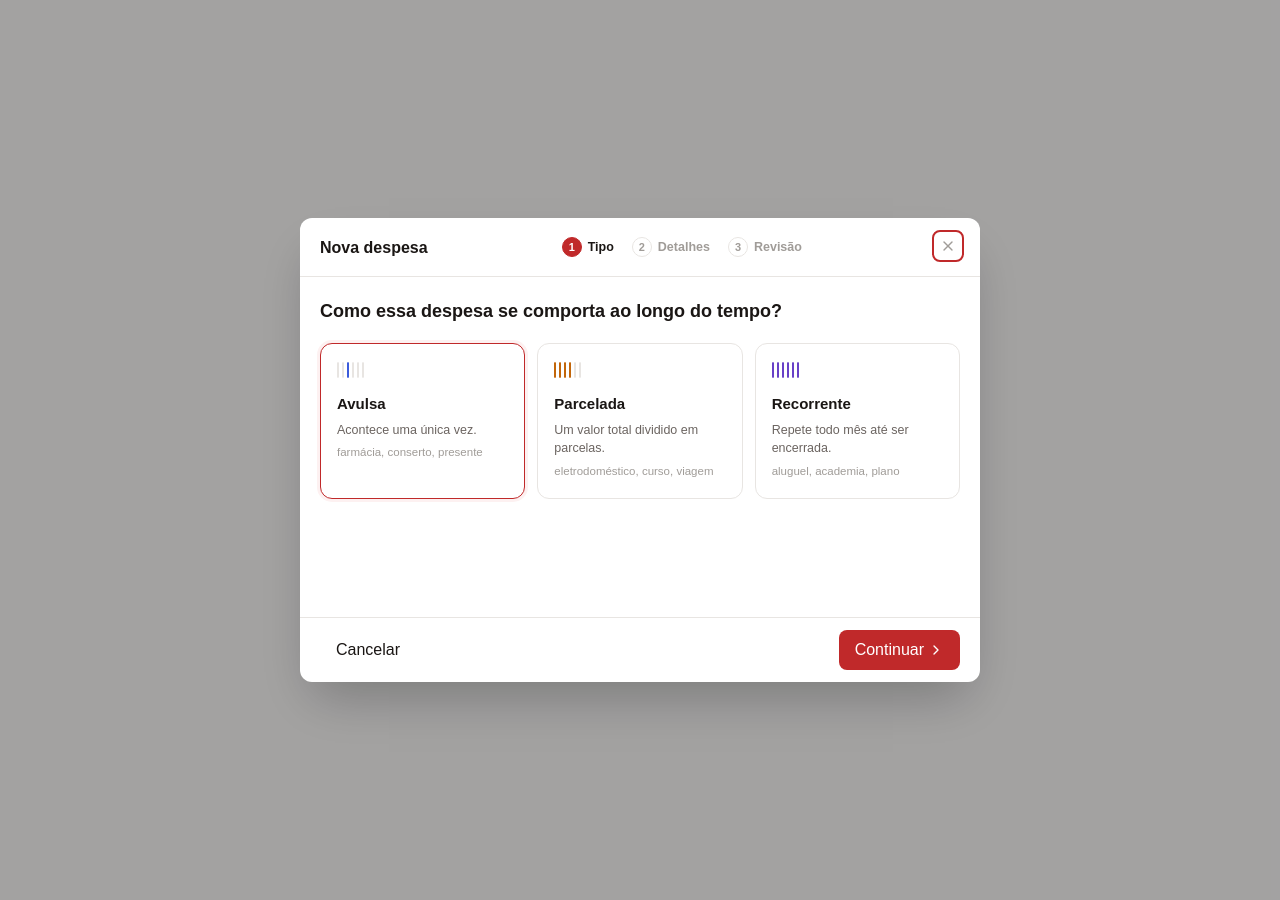
Test case: ExpenseWizard: Revisão › mostra 33,34/33,33/33,33 e a nota dos centavos para R$ 100,00 em 3×
Click the radio button labelled "Parcelada": (640, 421) [537,343,743,499]
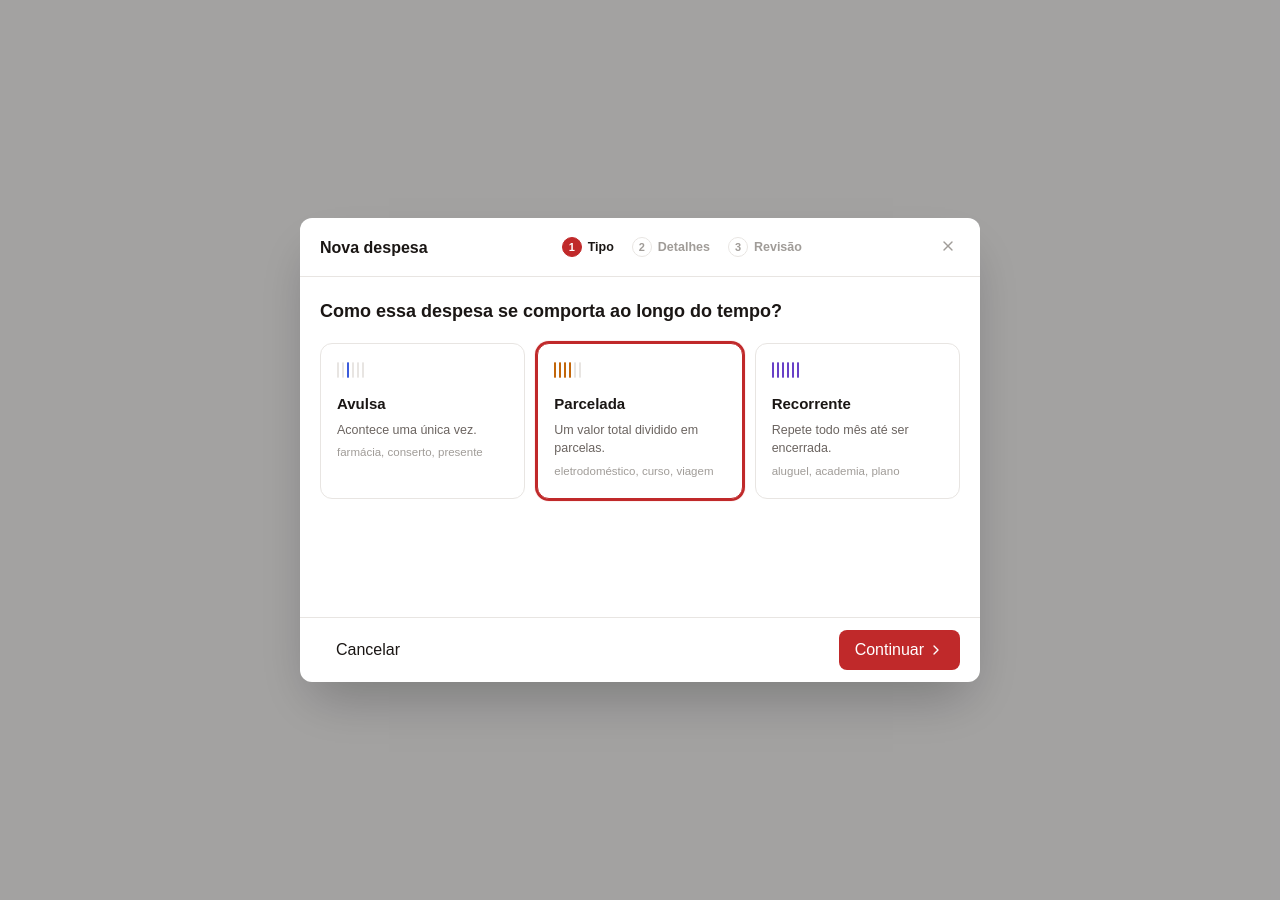
Click the button "Continuar": (899, 650) [839,630,960,670]
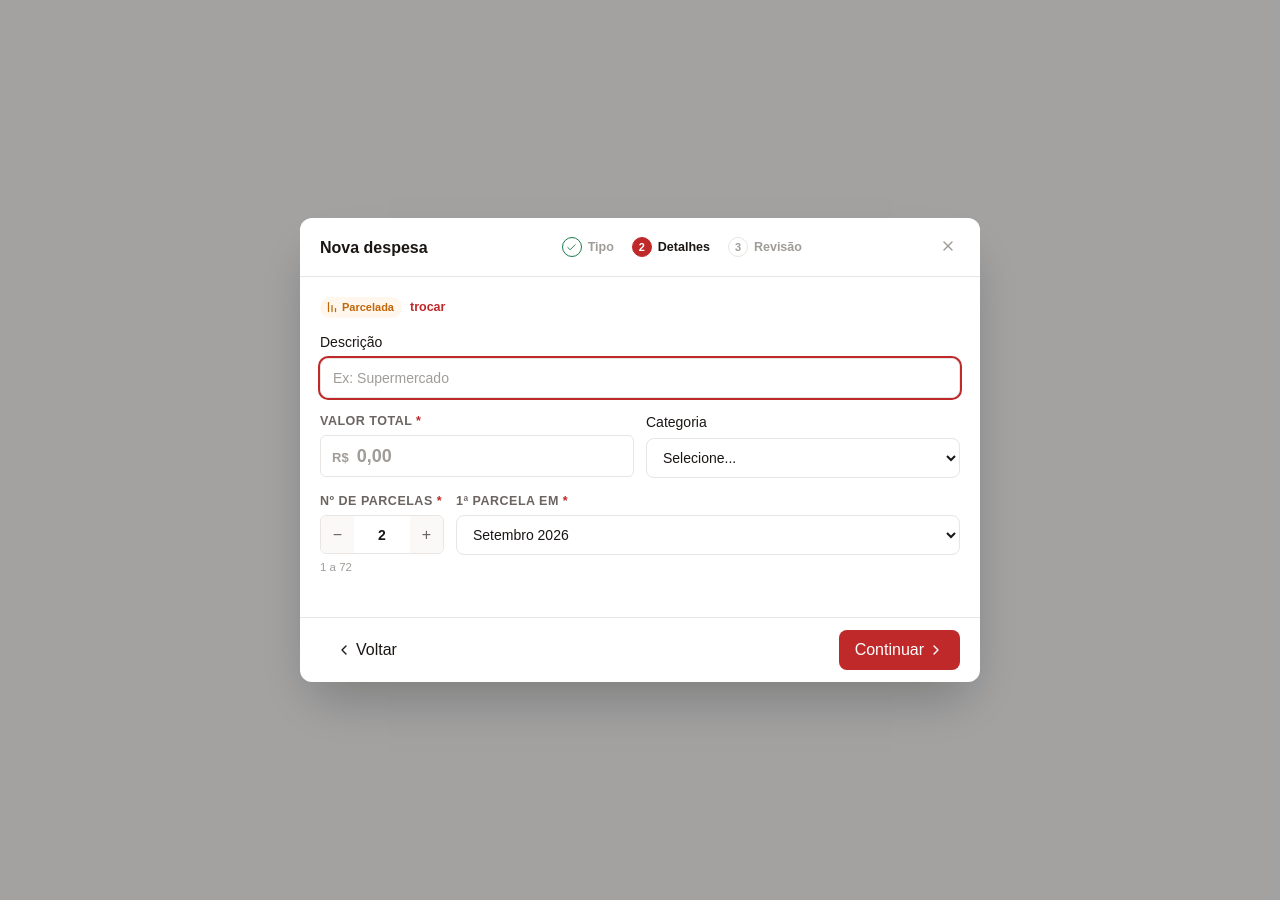
In the field labelled "Descrição": (640, 378) [320,358,960,398], type "Notebook"
In the field labelled "Valor total *": (489, 456) [357,442,622,470], type "100"
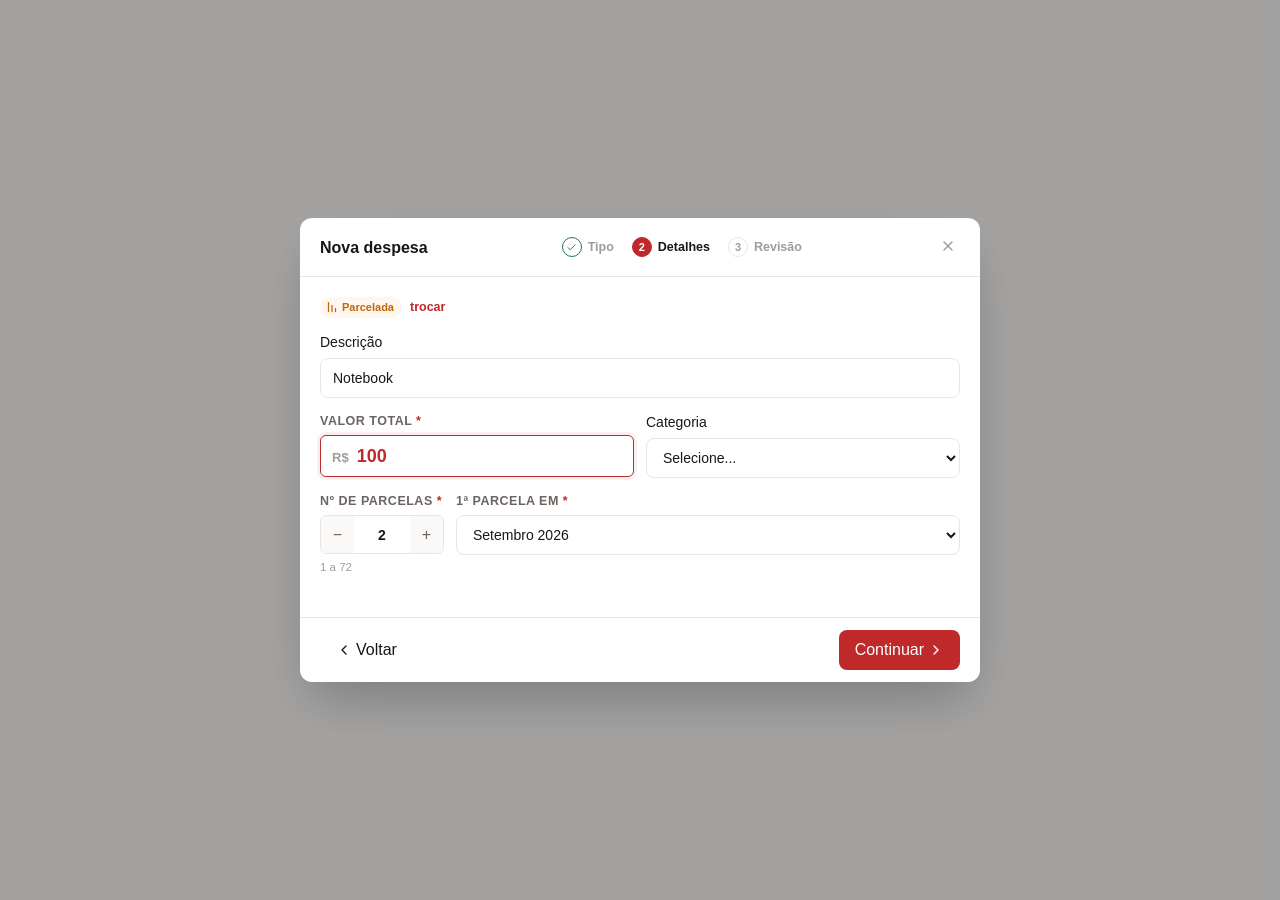
Select "Moradia" in the dropdown labelled "Categoria": (803, 458) [646,438,960,478]
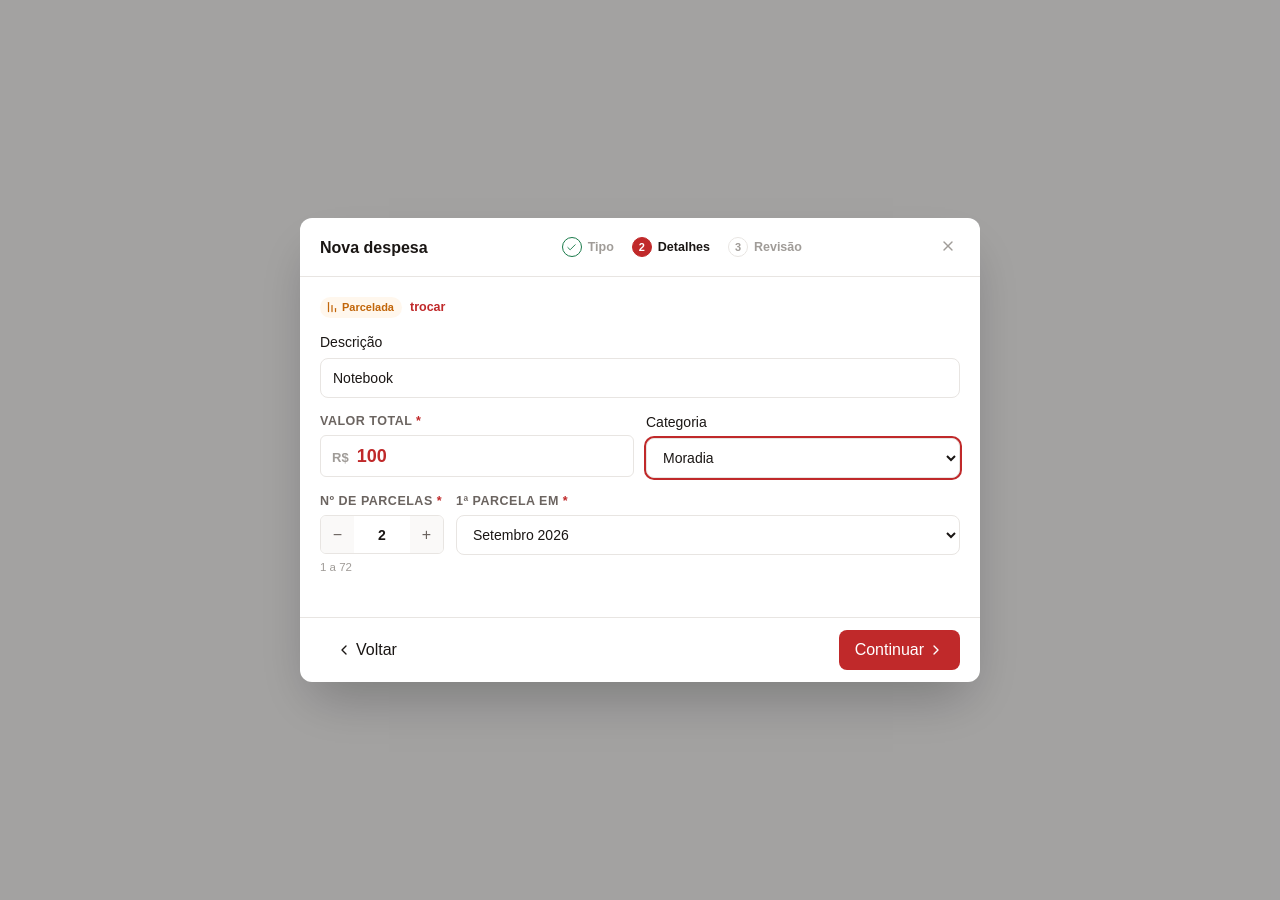
Click the button named "Aumentar": (426, 535) [410,516,443,553]
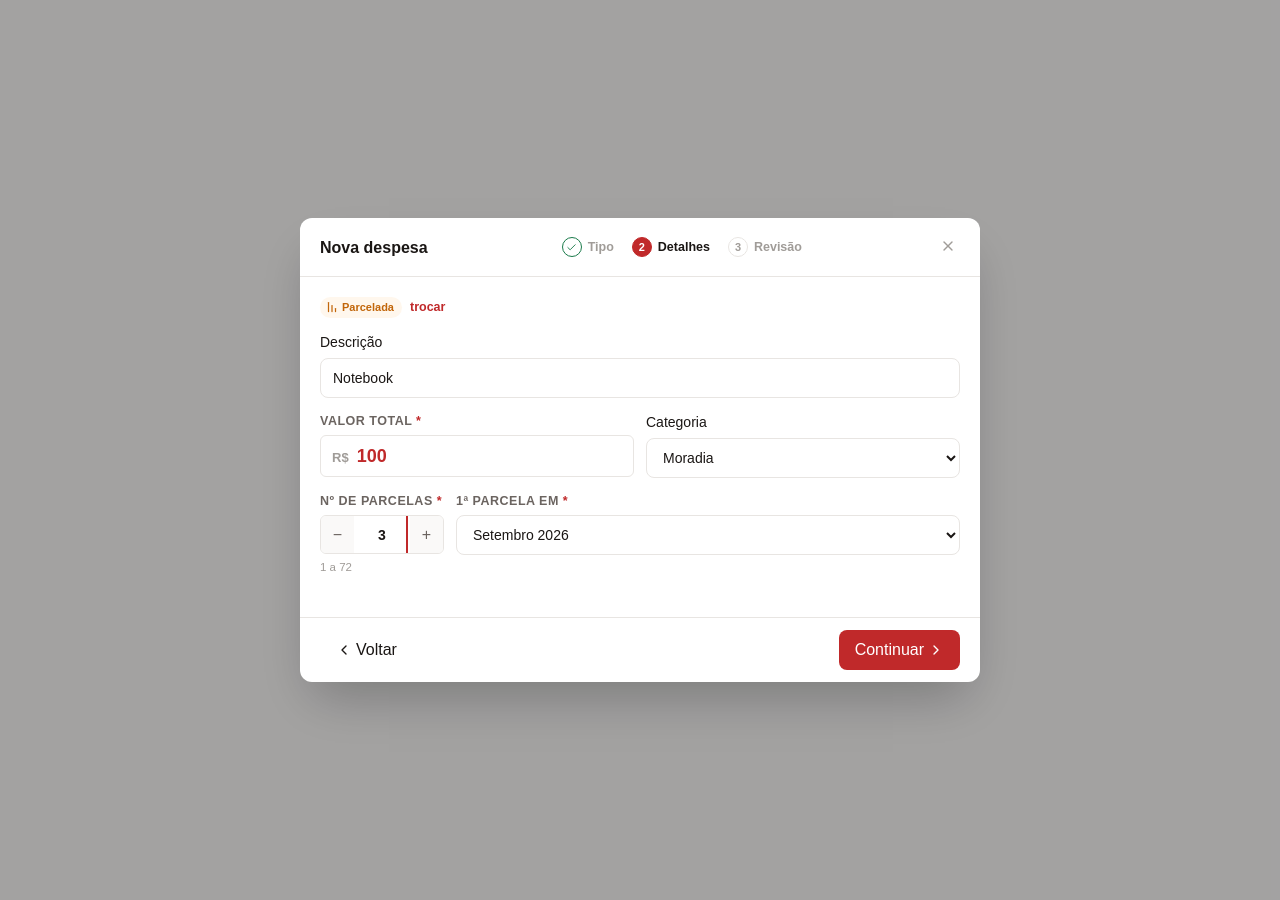
Click the button "Continuar": (899, 650) [839,630,960,670]
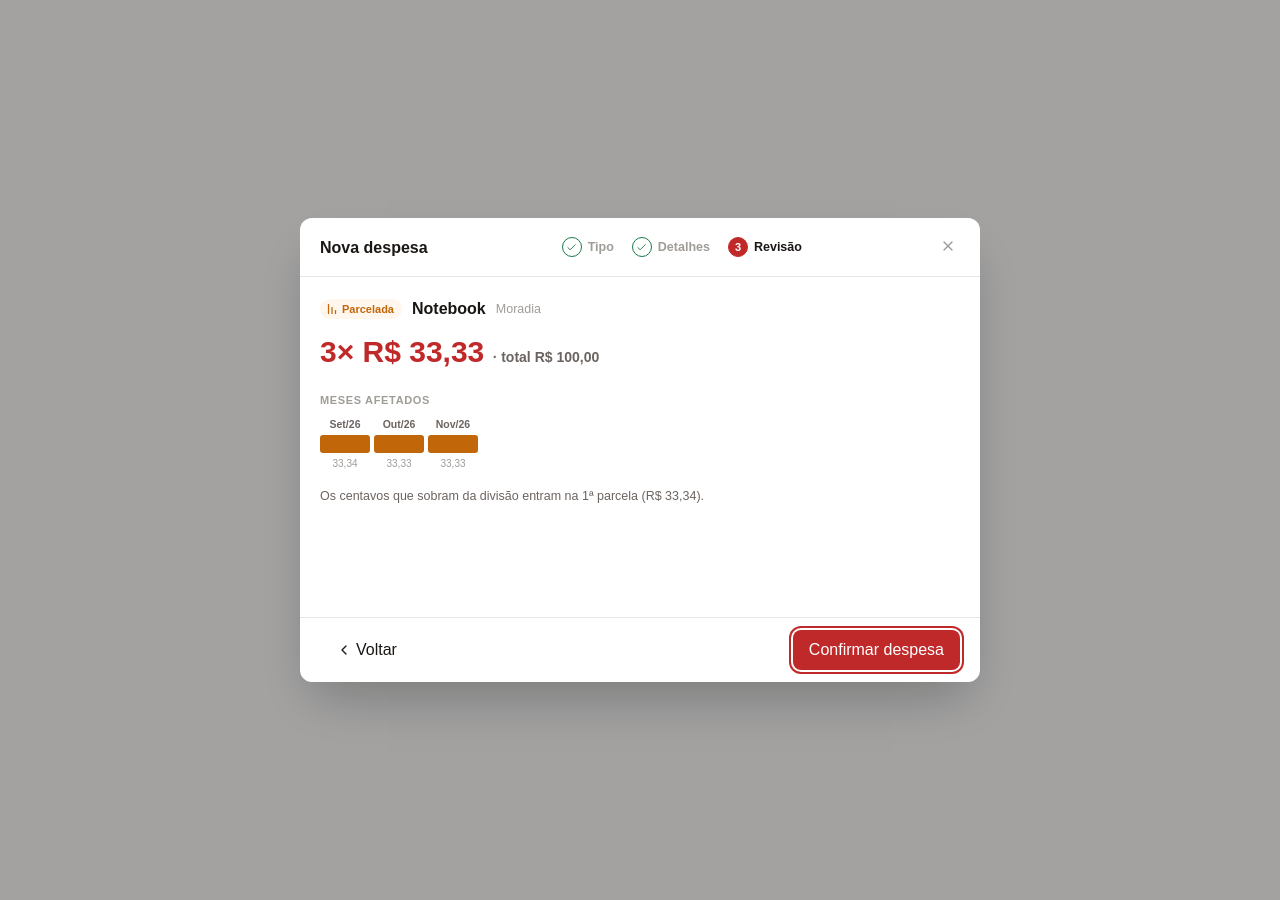
Expected: the list items read "Set/2633,34", "Out/2633,33", "Nov/2633,33", in this order, [320,416,370,471]; [374,416,424,471]; [428,416,478,471]
Expected: the text "3× R$ 33,33 · total R$ 100,00" is shown, [320,335,599,368]
Expected: the text "Os centavos que sobram da divisão entram na 1ª parcela (R$ 33,34)." is shown, [320,489,704,503]
